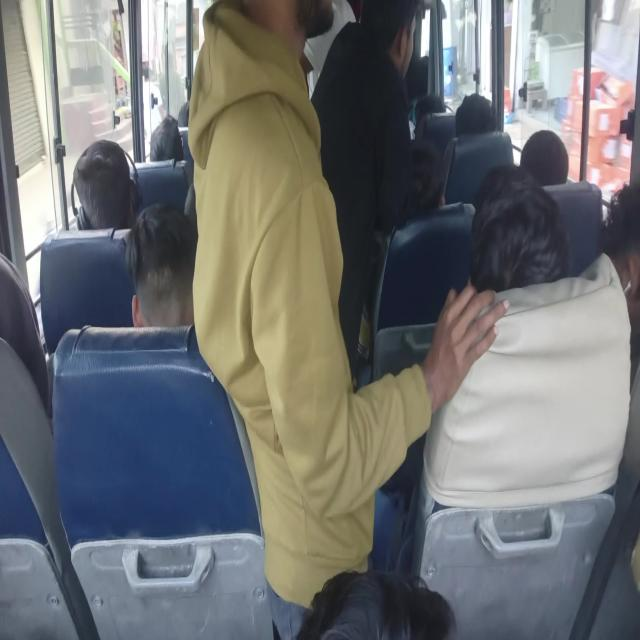person: (201, 0, 336, 208), (476, 172, 566, 288), (301, 568, 453, 636), (125, 204, 199, 330), (0, 242, 50, 419), (599, 178, 640, 368), (356, 0, 427, 72), (74, 154, 129, 218), (409, 135, 449, 213), (520, 128, 570, 189), (472, 163, 526, 216), (455, 93, 499, 139), (148, 115, 184, 163), (414, 92, 447, 130), (178, 101, 190, 128)
